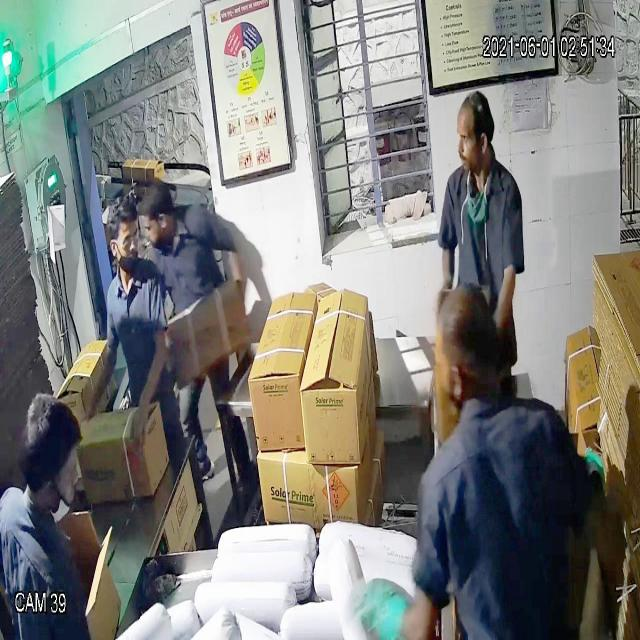glasses: (102, 227, 146, 261)
no-glass: (454, 121, 494, 161)
